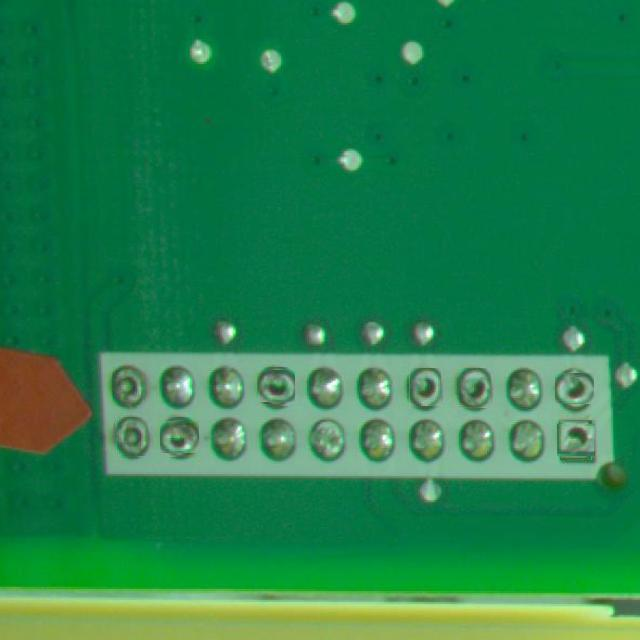low_solder: (113, 366, 144, 407), (114, 418, 148, 455), (459, 369, 491, 408), (554, 373, 594, 404), (257, 371, 295, 402), (161, 421, 199, 452), (557, 424, 595, 455), (409, 369, 441, 405)
